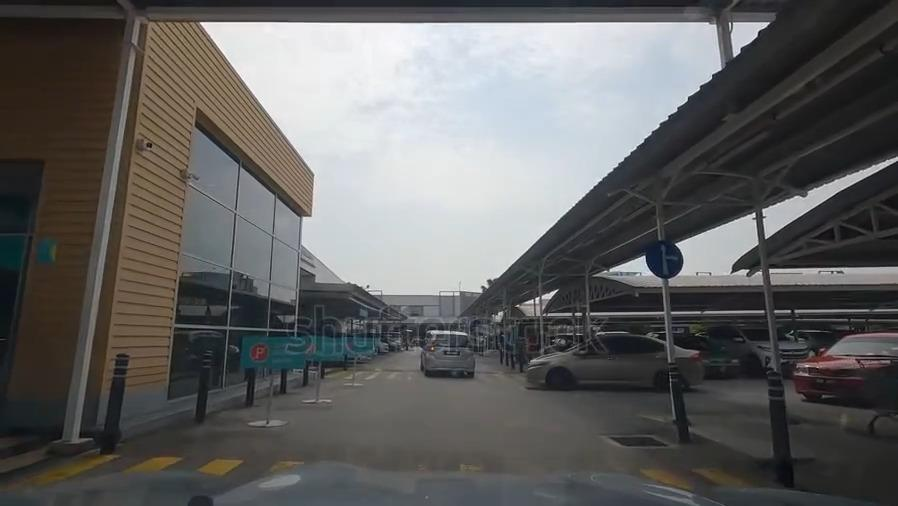car: (524, 347, 699, 391), (794, 335, 898, 400), (721, 327, 810, 371), (663, 332, 735, 378), (421, 331, 471, 375)
manhole: (609, 431, 664, 455)
pedestrian: (8, 460, 771, 489), (325, 375, 534, 383)
speedbump: (353, 366, 515, 375)
